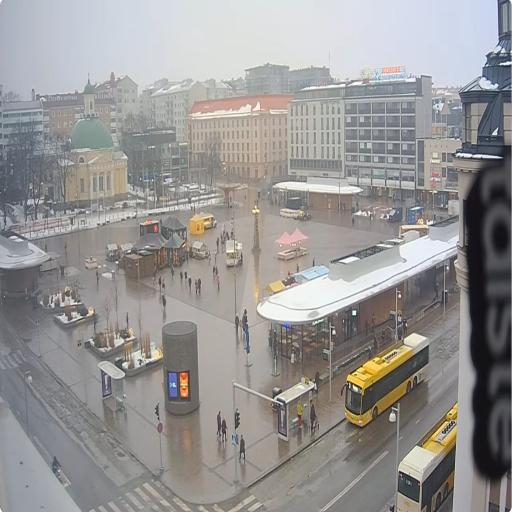Bus: (345, 333, 429, 427), (398, 402, 458, 511)
